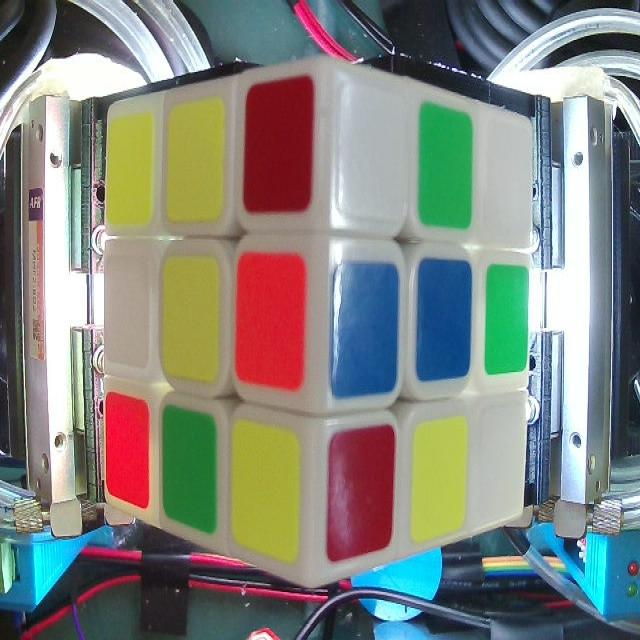b: (330, 268, 394, 391), (419, 260, 472, 377)
g: (164, 408, 217, 524), (423, 111, 472, 225), (486, 264, 527, 372)
o: (237, 253, 302, 387), (107, 394, 144, 502)
r: (248, 85, 308, 214), (332, 437, 394, 559)
w: (341, 90, 405, 222), (477, 120, 531, 232), (105, 258, 148, 370), (481, 408, 523, 509)
y: (235, 422, 299, 554), (164, 255, 218, 380), (169, 104, 224, 217), (417, 423, 465, 536), (109, 116, 154, 224)
